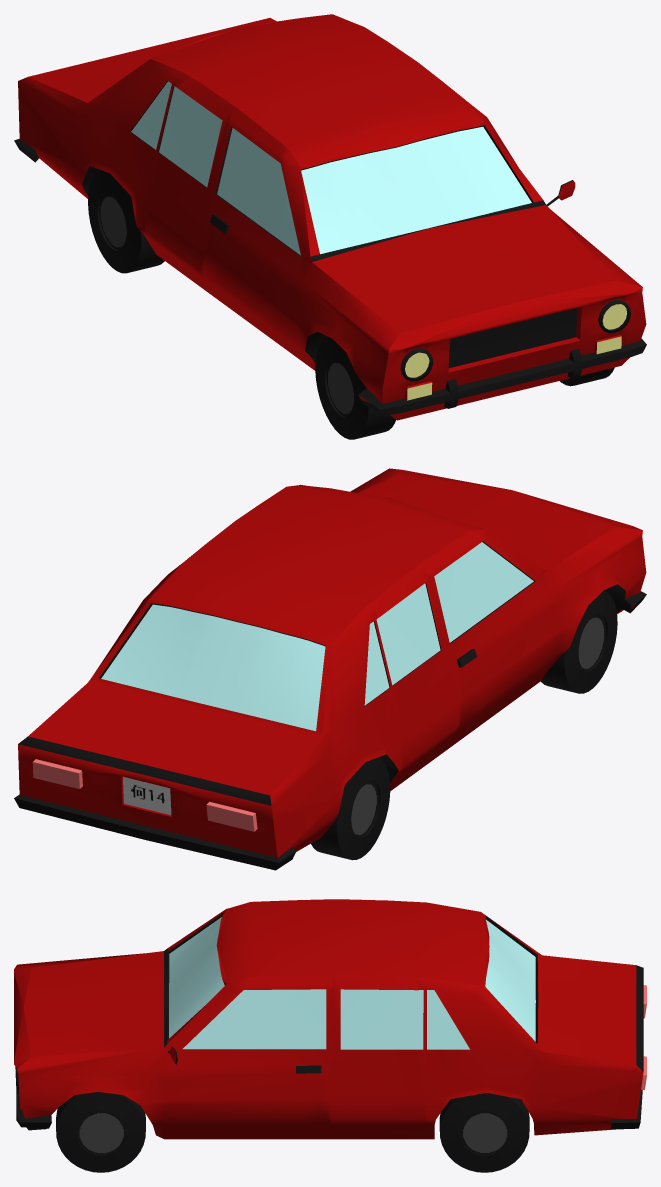
File: Car01.fbx
The picture shows the model from 3 angles, top to bottom: view 1: azimuth 30°, elevation 25°; view 2: azimuth 150°, elevation 25°; view 3: azimuth 270°, elevation 25°; orthographic projection. The views are drawn at different scales.
Parts seen in each view (by area): view 1: Car; view 2: Car; view 3: Car.
Boxes of the visible parts, box(x1,y1,x2,y2) form: Car: box(14, 14, 646, 439); Car: box(14, 468, 646, 870); Car: box(14, 899, 646, 1172).
Size of the model in its own units: 3.75 by 2.79 by 8.38.
1 material, 1 textured.
